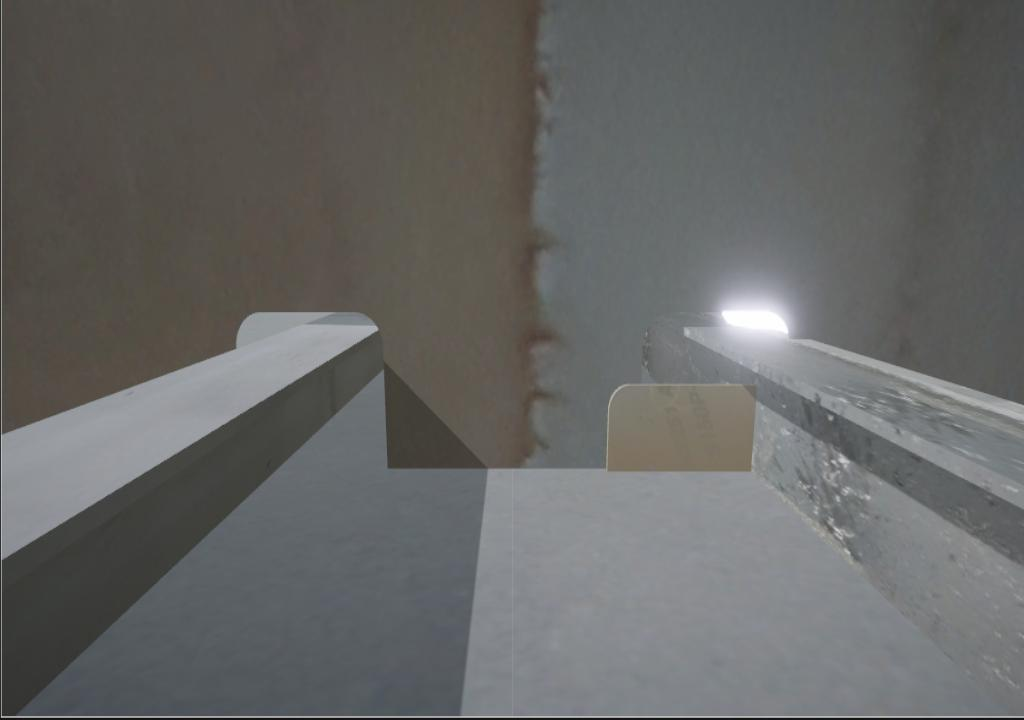fillet_yong_jeop_jang: (379, 458, 608, 475)
plate_CP05: (607, 381, 758, 474)
